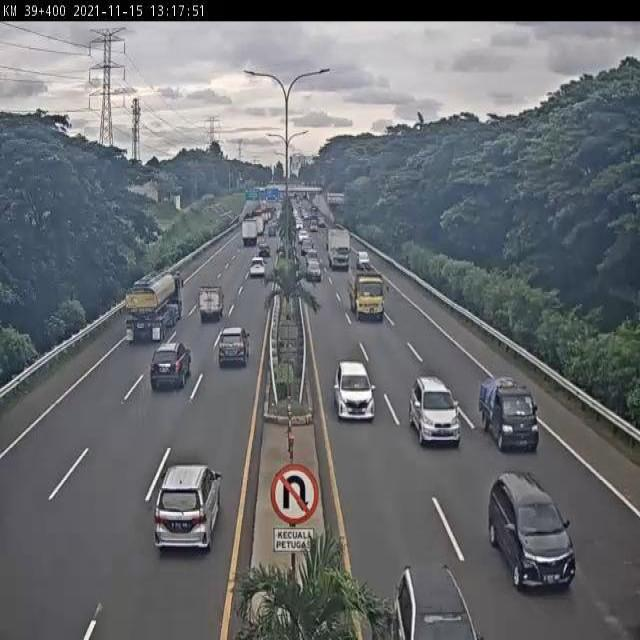ARABA: (490, 468, 576, 593), (154, 464, 222, 553), (410, 378, 461, 446), (333, 360, 376, 423), (152, 343, 192, 389), (218, 328, 251, 368), (250, 256, 267, 277)
KAMYONET: (480, 374, 539, 454), (348, 266, 389, 318), (199, 285, 225, 323)
TIR: (125, 267, 183, 345)
